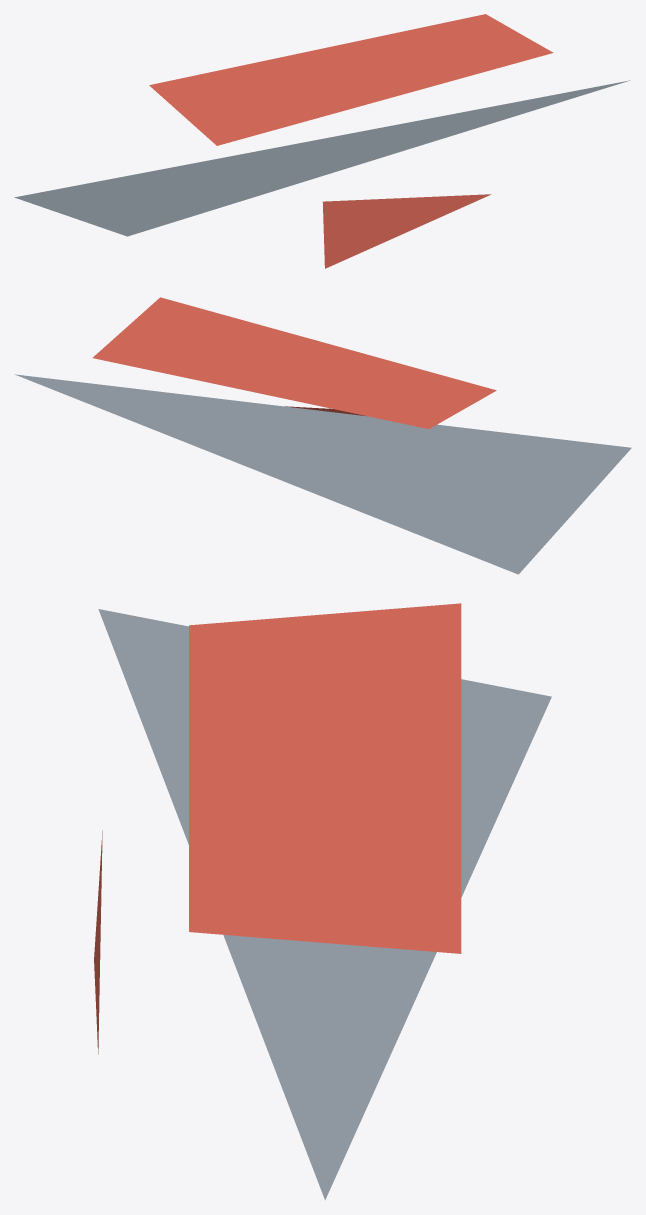
Rendered from SU_BuranPatrolBoat_LOD2.glb.
3 views of the same model, one above another, from view 1: azimuth 30°, elevation 25°; view 2: azimuth 150°, elevation 25°; view 3: azimuth 270°, elevation 25° (orthographic). The views are drawn at different scales.
Parts seen in each view (by area): view 1: EntranceGate; view 2: EntranceGate; view 3: EntranceGate.
Boxes of the visible parts, x1,y1,x2,y2 form: EntranceGate: (14,14,630,268); EntranceGate: (14,297,631,574); EntranceGate: (94,603,551,1200).
Bounding box in the file's own units: 1000 × 233 × 353.
